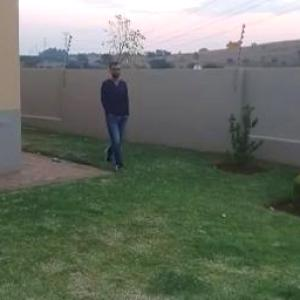follow: (91, 58, 130, 171)
